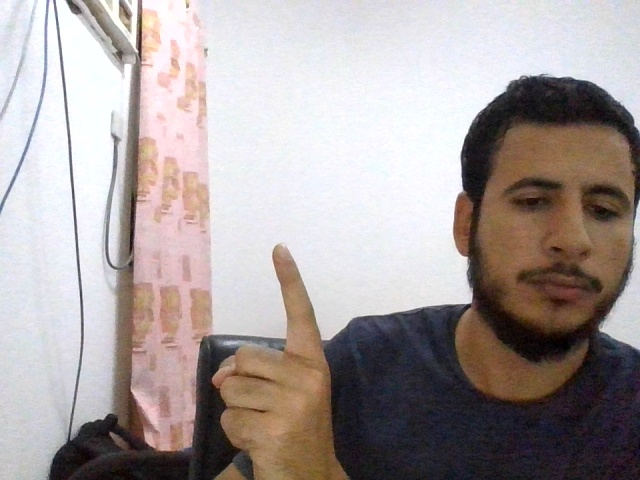One: (211, 243, 334, 477)
